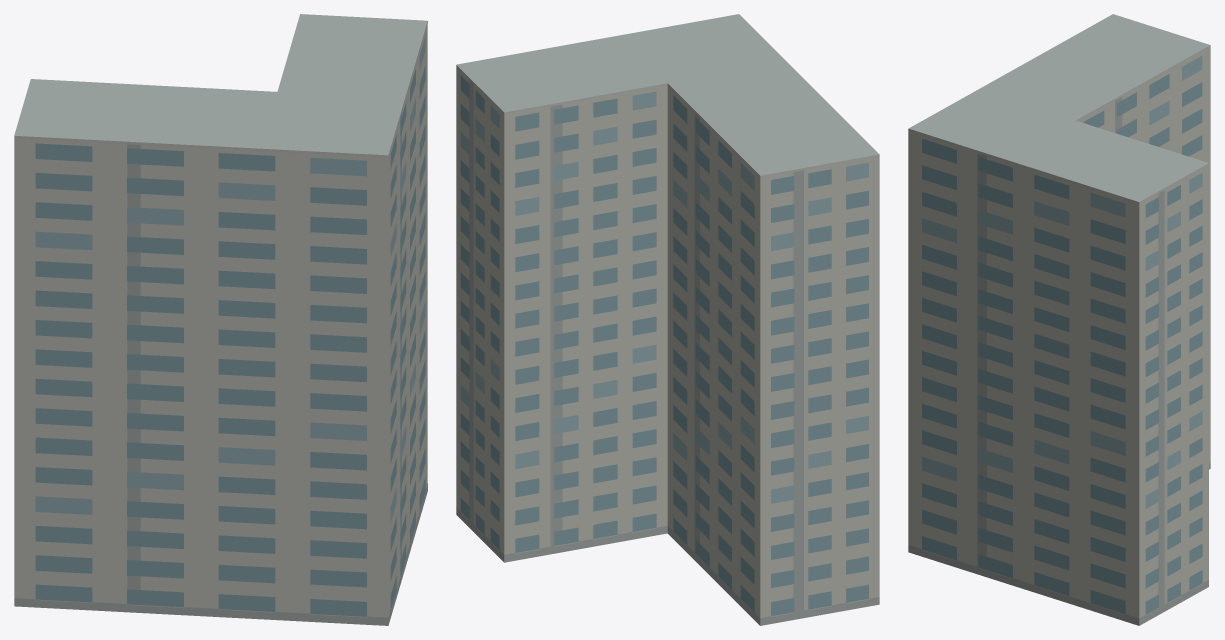
The model's file is residential-6cd11aa4-209d-4d52-a1a8-5eddd65737e4.glb.
3 views of the same model, side by side, from view 1: azimuth 30°, elevation 25°; view 2: azimuth 150°, elevation 25°; view 3: azimuth 270°, elevation 25° (orthographic). The views are drawn at different scales.
Parts seen in each view (by area): view 1: residential-6cd11aa4-209d-4d52-a1a8-5eddd65737e4.tmp; view 2: residential-6cd11aa4-209d-4d52-a1a8-5eddd65737e4.tmp; view 3: residential-6cd11aa4-209d-4d52-a1a8-5eddd65737e4.tmp.
Boxes of the visible parts, x1,y1,x2,y2 form: residential-6cd11aa4-209d-4d52-a1a8-5eddd65737e4.tmp: [14, 14, 427, 625]; residential-6cd11aa4-209d-4d52-a1a8-5eddd65737e4.tmp: [456, 14, 879, 625]; residential-6cd11aa4-209d-4d52-a1a8-5eddd65737e4.tmp: [908, 14, 1210, 625].
Bounding box in the file's own units: 43.81 × 46 × 29.72.
